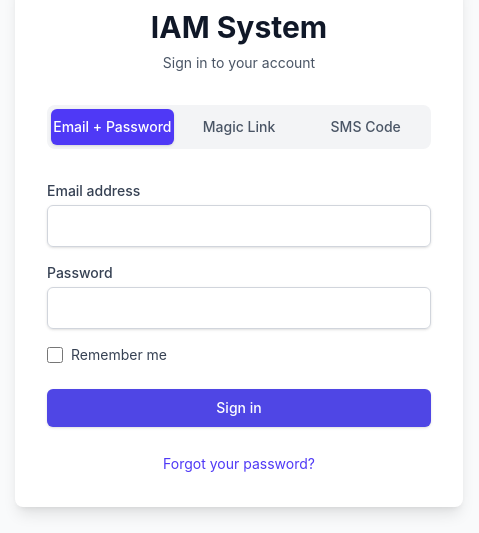
Test case: LoginPage returnUrl navigation › when the account has email 2FA enabled › does not sign the user in after SMS code verification and asks for the second factor instead
Click the button "SMS Code": x=366, y=127 304,109 -> 427,145
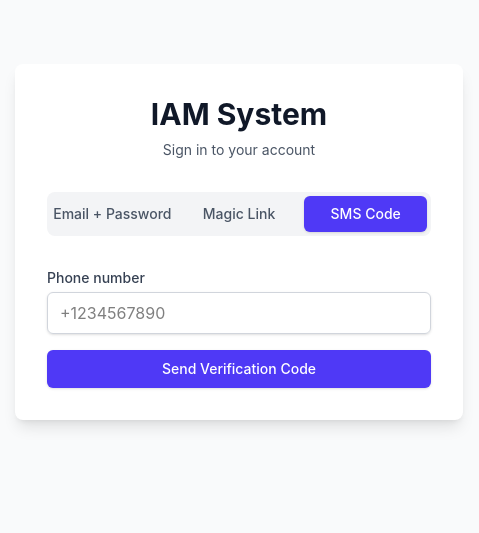
In the field labelled "Phone number": x=239, y=313 47,292 -> 431,334, type "+15551234567"
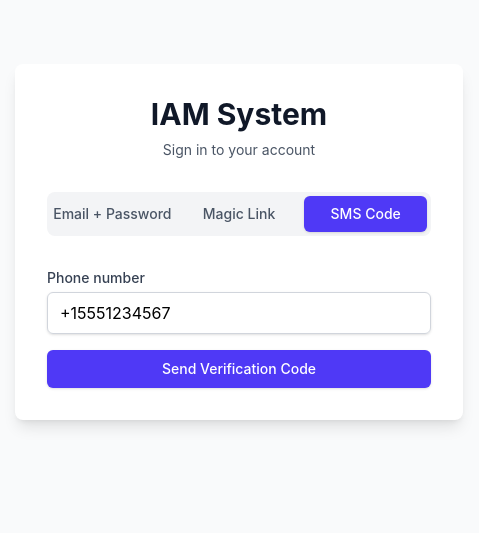
Click the button "Send Verification Code": x=239, y=369 47,350 -> 431,388
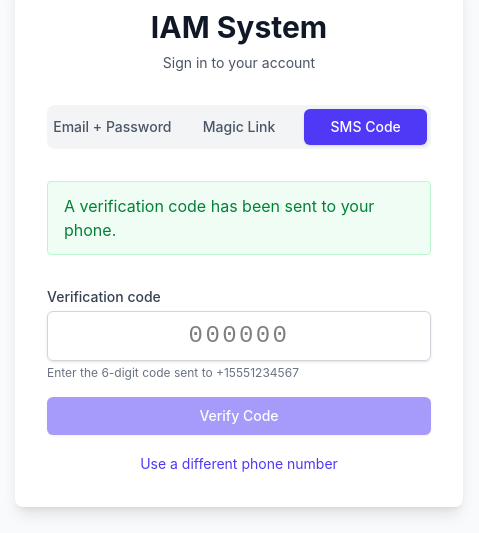
In the field labelled "Verification code": x=239, y=336 47,311 -> 431,361, type "123456"
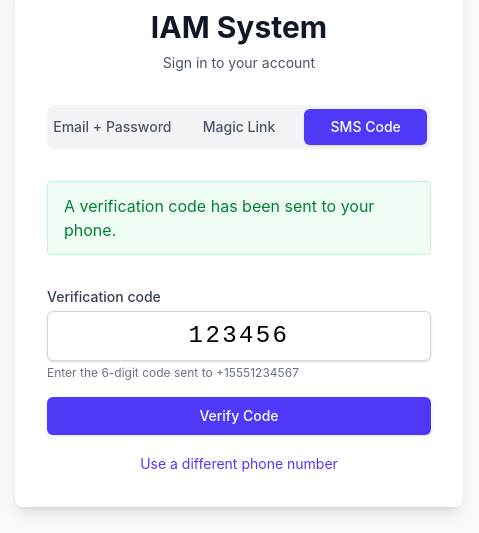
Click the button "Verify Code": x=239, y=416 47,397 -> 431,435
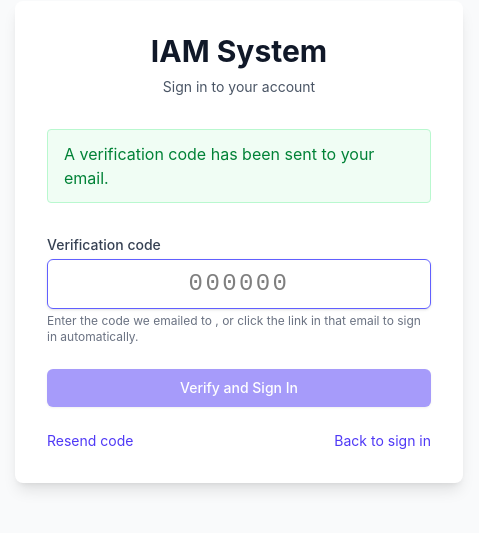
Expected: the text "A verification code has been sent to your email." is shown, 47,129 -> 431,203
